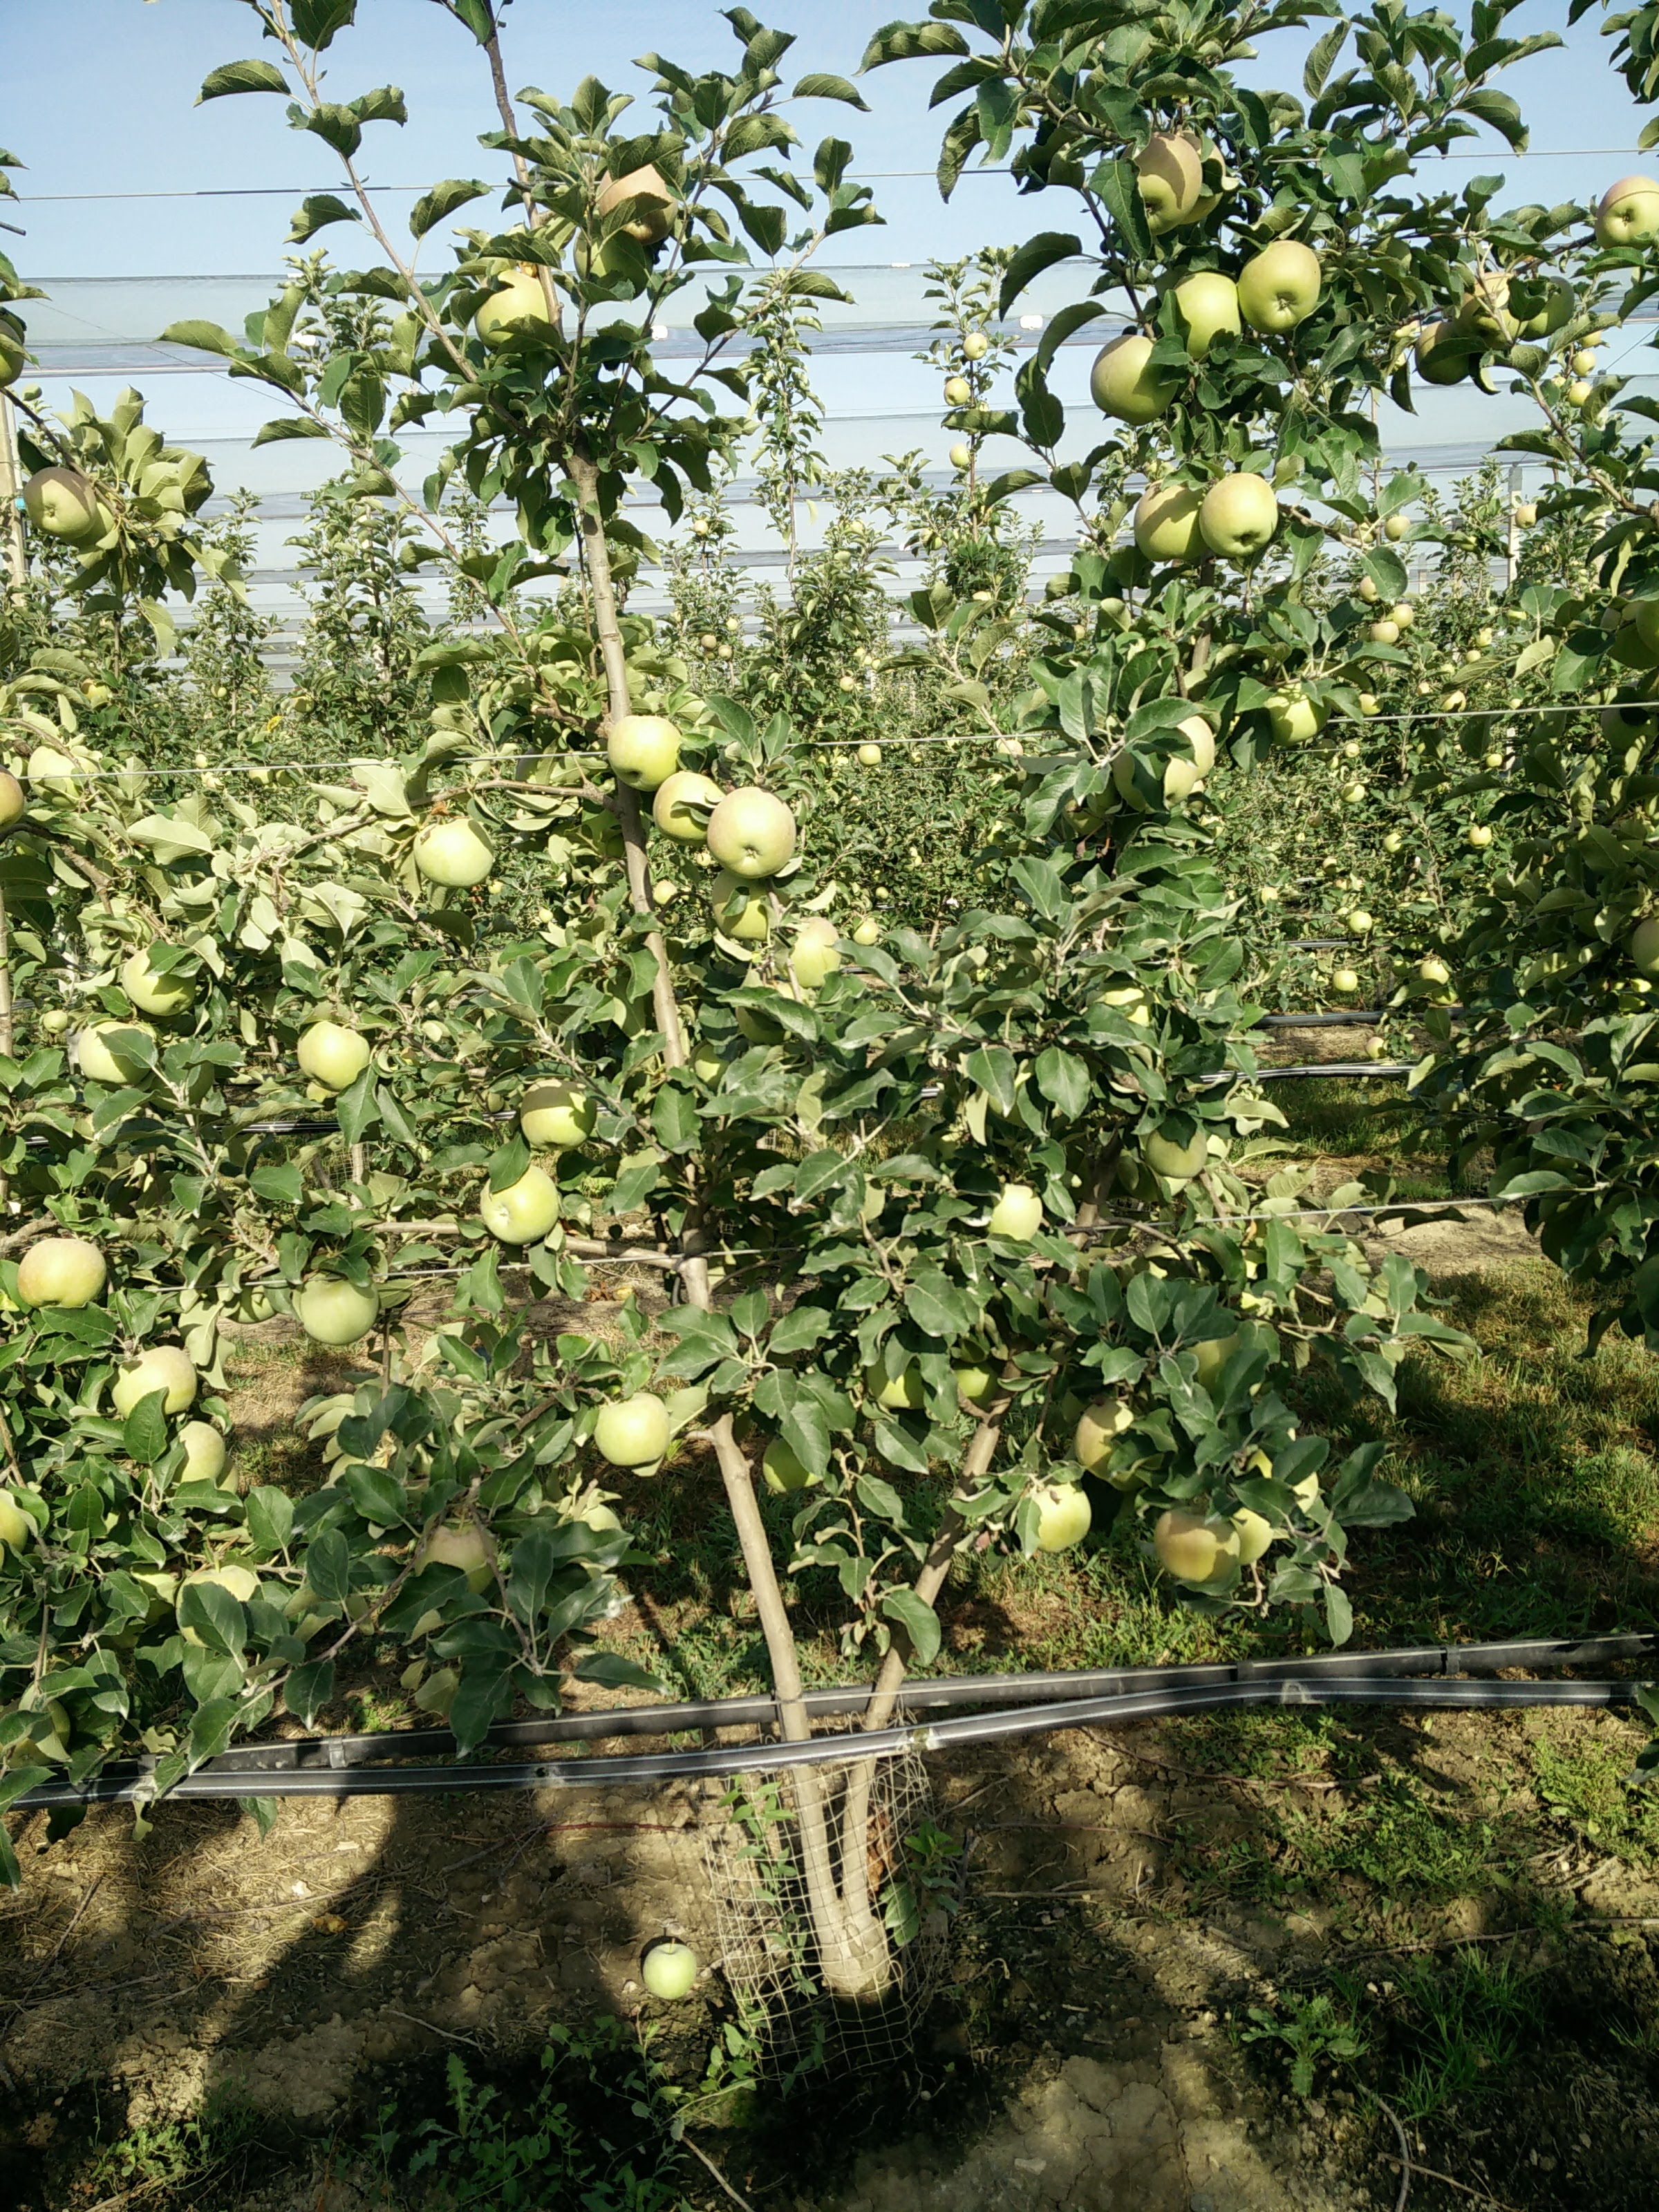apple: (702, 785, 796, 883), (1232, 233, 1324, 332), (1154, 268, 1246, 359), (1087, 329, 1179, 422), (1191, 473, 1285, 561), (1116, 128, 1191, 236), (99, 1344, 196, 1421), (412, 1519, 496, 1598), (1134, 478, 1208, 570), (1154, 1506, 1241, 1582), (477, 1165, 559, 1245), (293, 1266, 377, 1345), (474, 268, 552, 351), (15, 1239, 105, 1314), (585, 1390, 669, 1466), (1018, 1470, 1094, 1551), (21, 463, 97, 543), (410, 816, 496, 886), (517, 1075, 599, 1147), (150, 1417, 224, 1492), (603, 712, 679, 785), (1588, 176, 1659, 254), (650, 768, 717, 845), (774, 915, 844, 985), (294, 1020, 368, 1088), (118, 949, 191, 1014), (77, 1023, 151, 1087), (26, 746, 99, 804), (1143, 1118, 1210, 1179)
